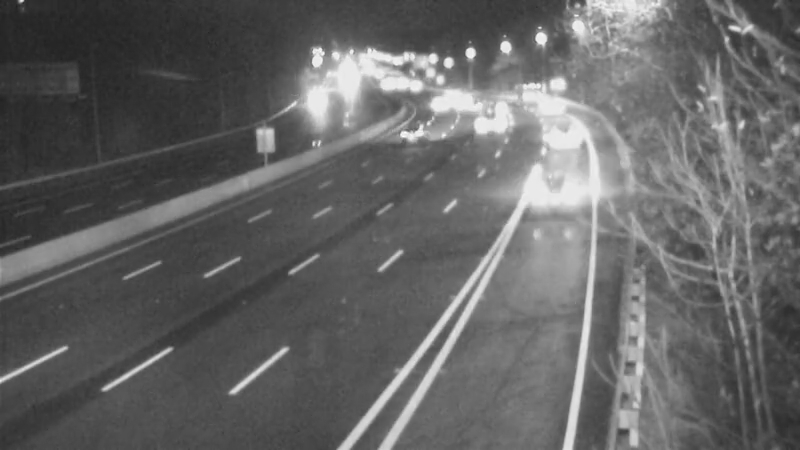vehicle: (515, 153, 595, 233), (500, 66, 550, 116), (432, 70, 482, 120), (439, 79, 489, 129), (408, 77, 458, 127), (525, 84, 575, 134), (466, 79, 516, 129), (468, 97, 518, 147), (539, 115, 589, 165), (389, 110, 439, 160), (285, 76, 335, 126)
